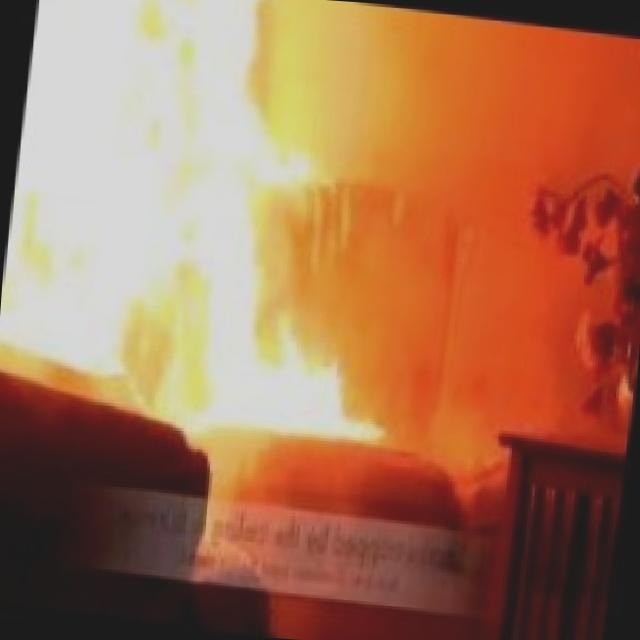fire: (0, 0, 419, 459)
